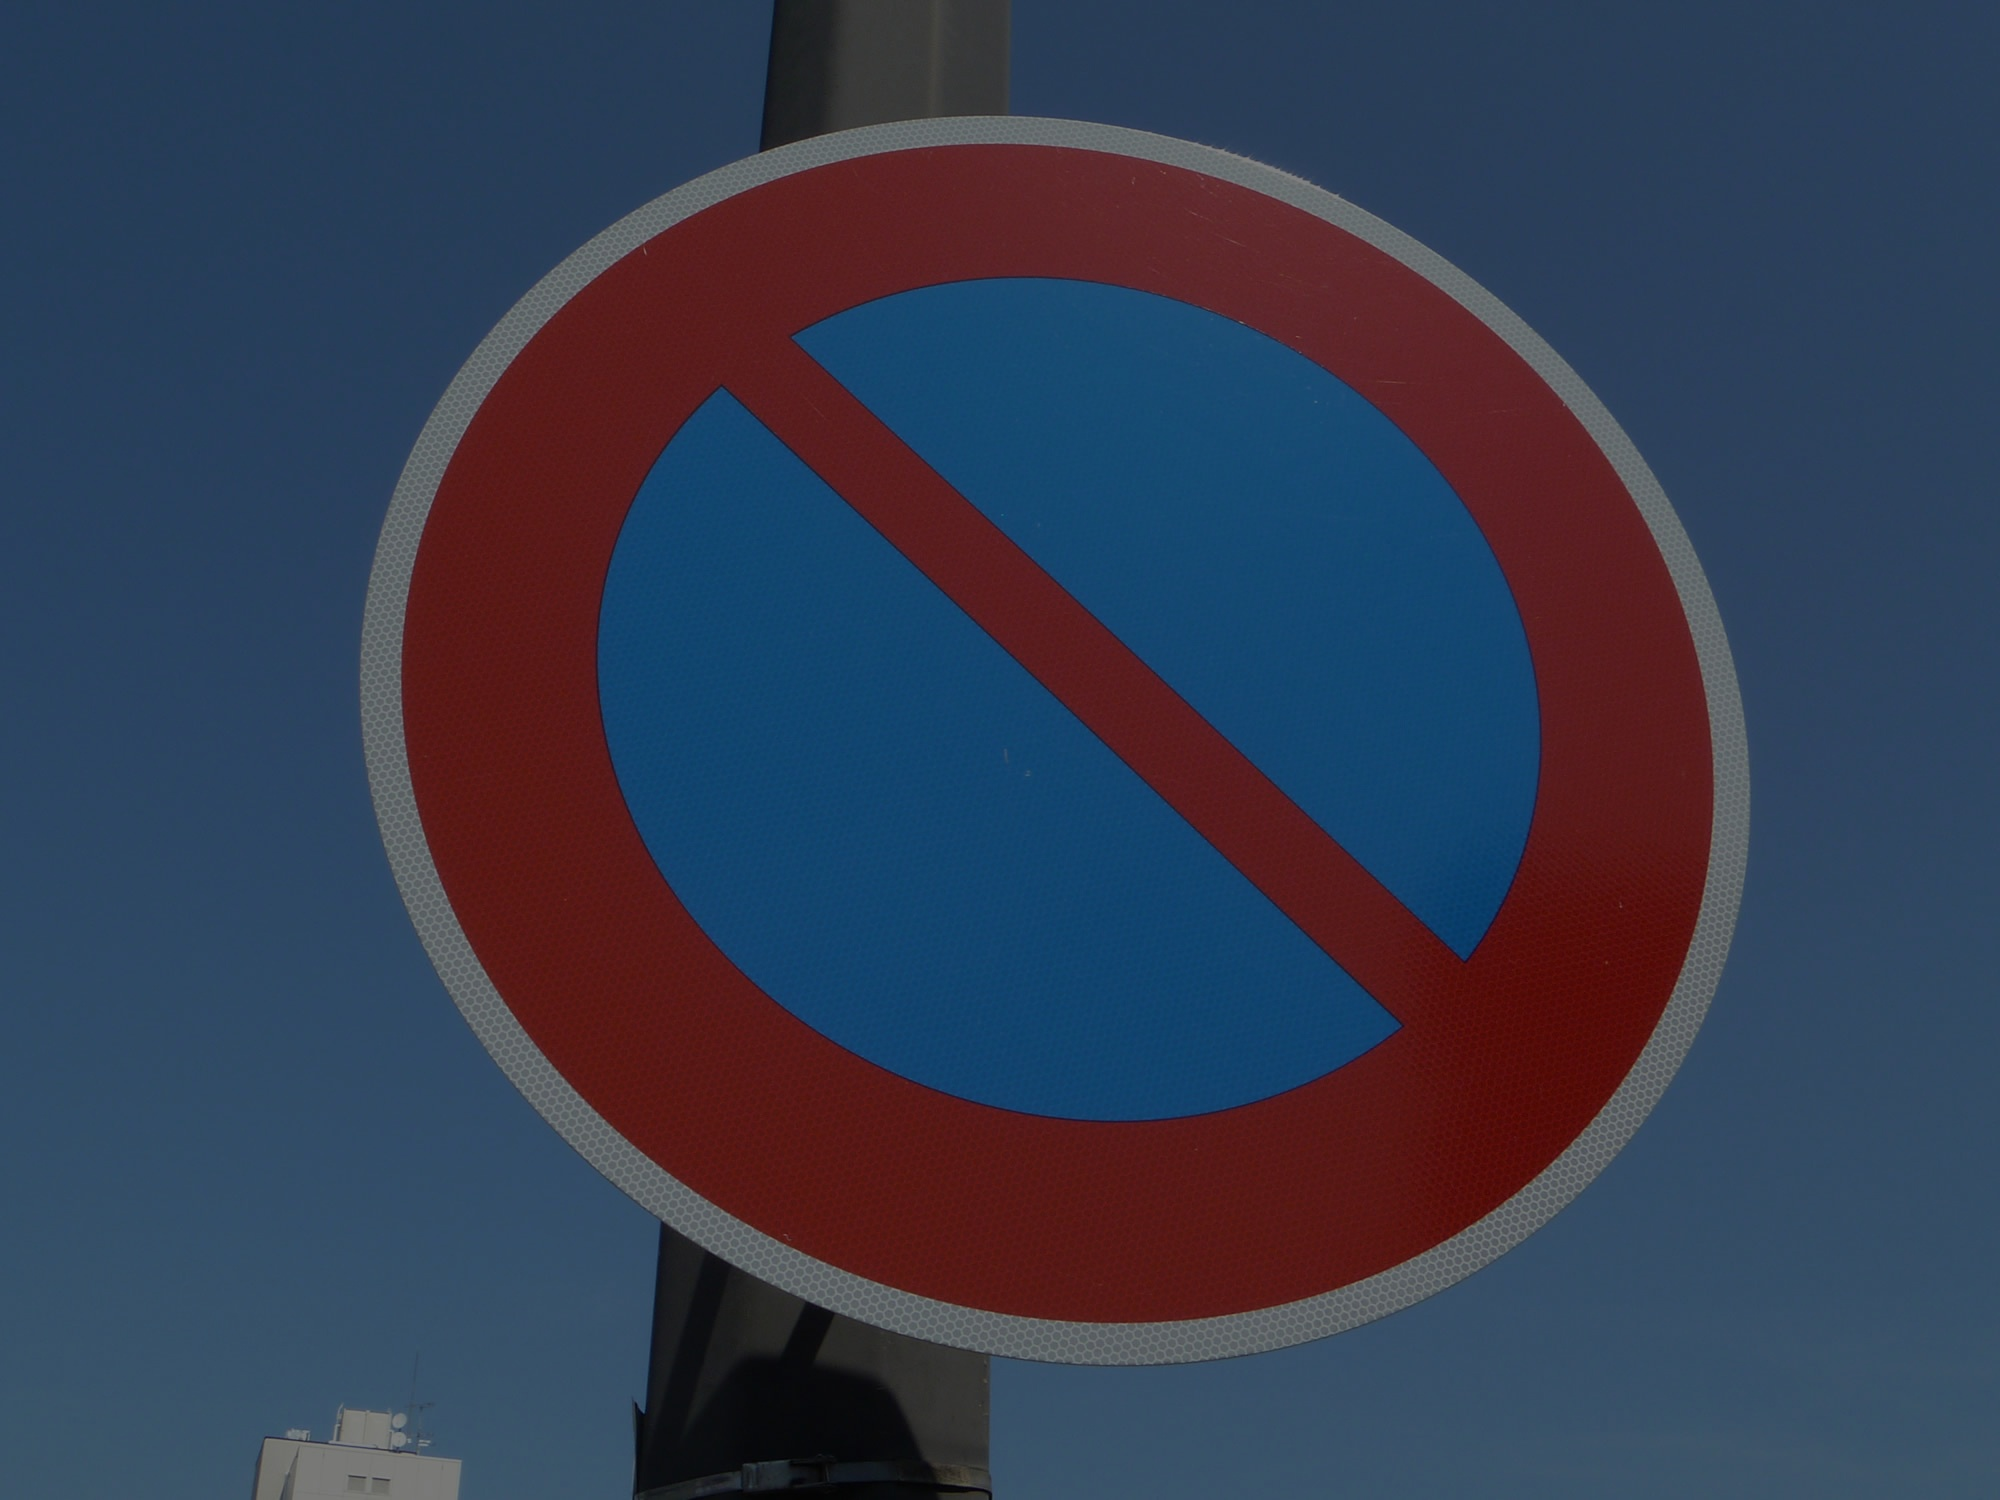Prohibition_sign: (326, 61, 1784, 1377)
